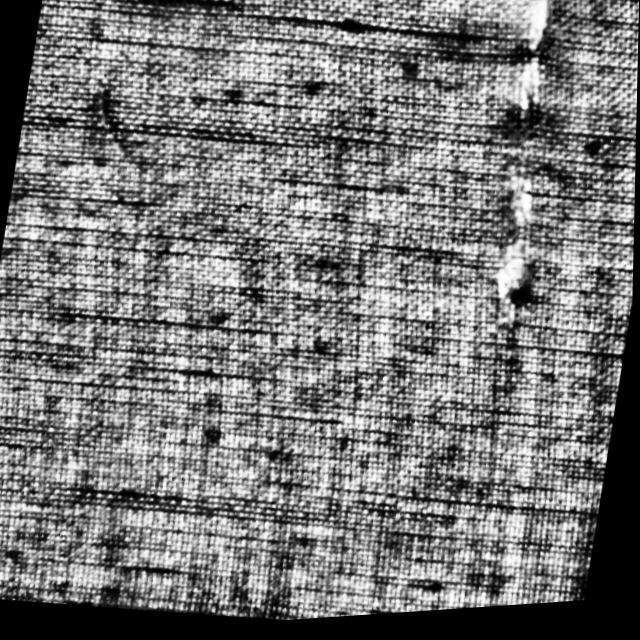Stitch: (470, 0, 591, 351)
